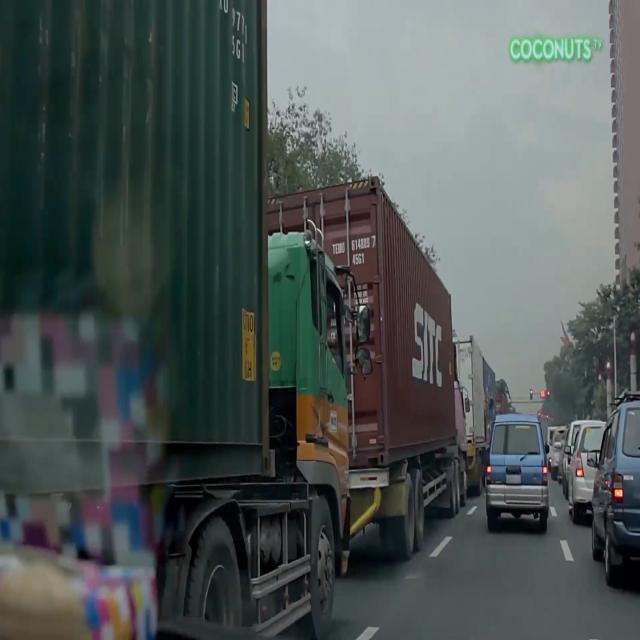truck: (0, 0, 369, 640), (133, 0, 332, 385), (454, 332, 494, 499)
